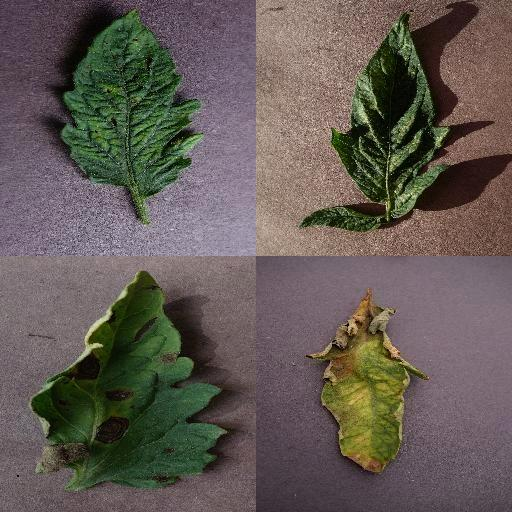Early Blight: (30, 267, 228, 497)
Late Blight: (308, 290, 430, 476)
Mosaic Virus: (60, 6, 204, 196)
Spider Mites: (331, 12, 451, 219)
